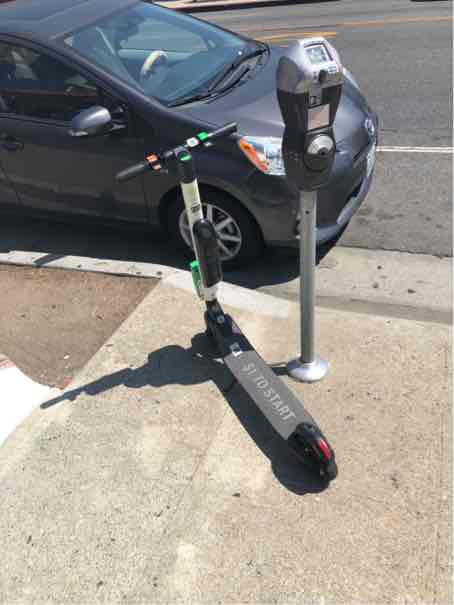scooter: (106, 124, 346, 492)
